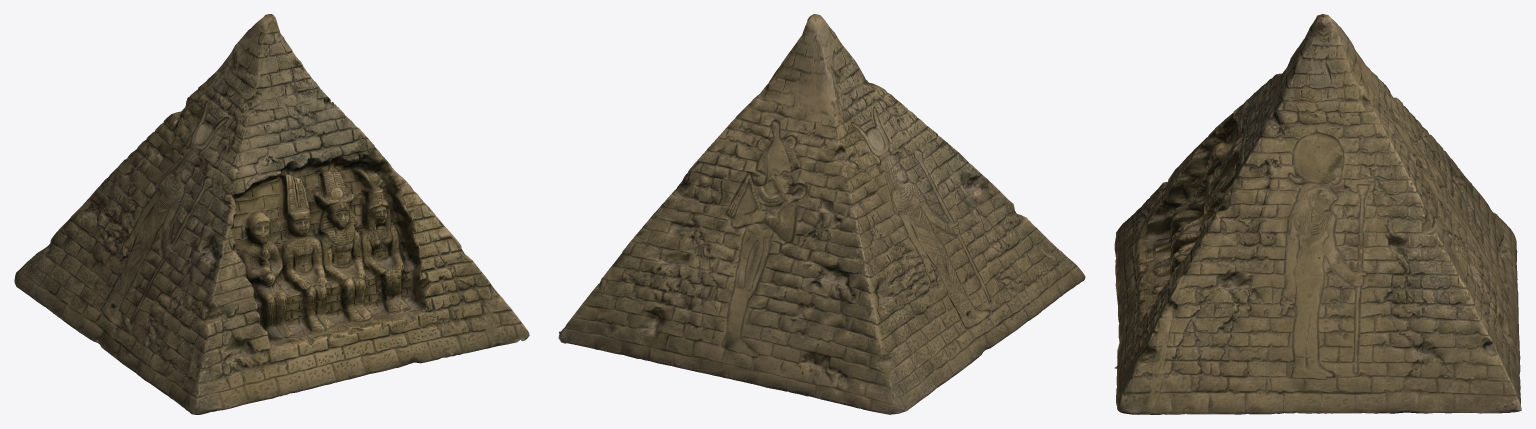
File: pyramid_figure_decoration.glb
3 views of the same model, side by side, from view 1: azimuth 30°, elevation 25°; view 2: azimuth 150°, elevation 25°; view 3: azimuth 270°, elevation 25° (orthographic). The views are drawn at different scales.
Parts seen in each view (by area): view 1: Pyramid_LOD0; view 2: Pyramid_LOD0; view 3: Pyramid_LOD0.
Part boxes in pixels (x1=…): Pyramid_LOD0: x1=14, y1=14, x2=529, y2=414; Pyramid_LOD0: x1=558, y1=14, x2=1085, y2=414; Pyramid_LOD0: x1=1114, y1=14, x2=1521, y2=414.
Bounding box in the file's own units: 2.14 × 1.77 × 2.08.
1 material, 1 textured.
